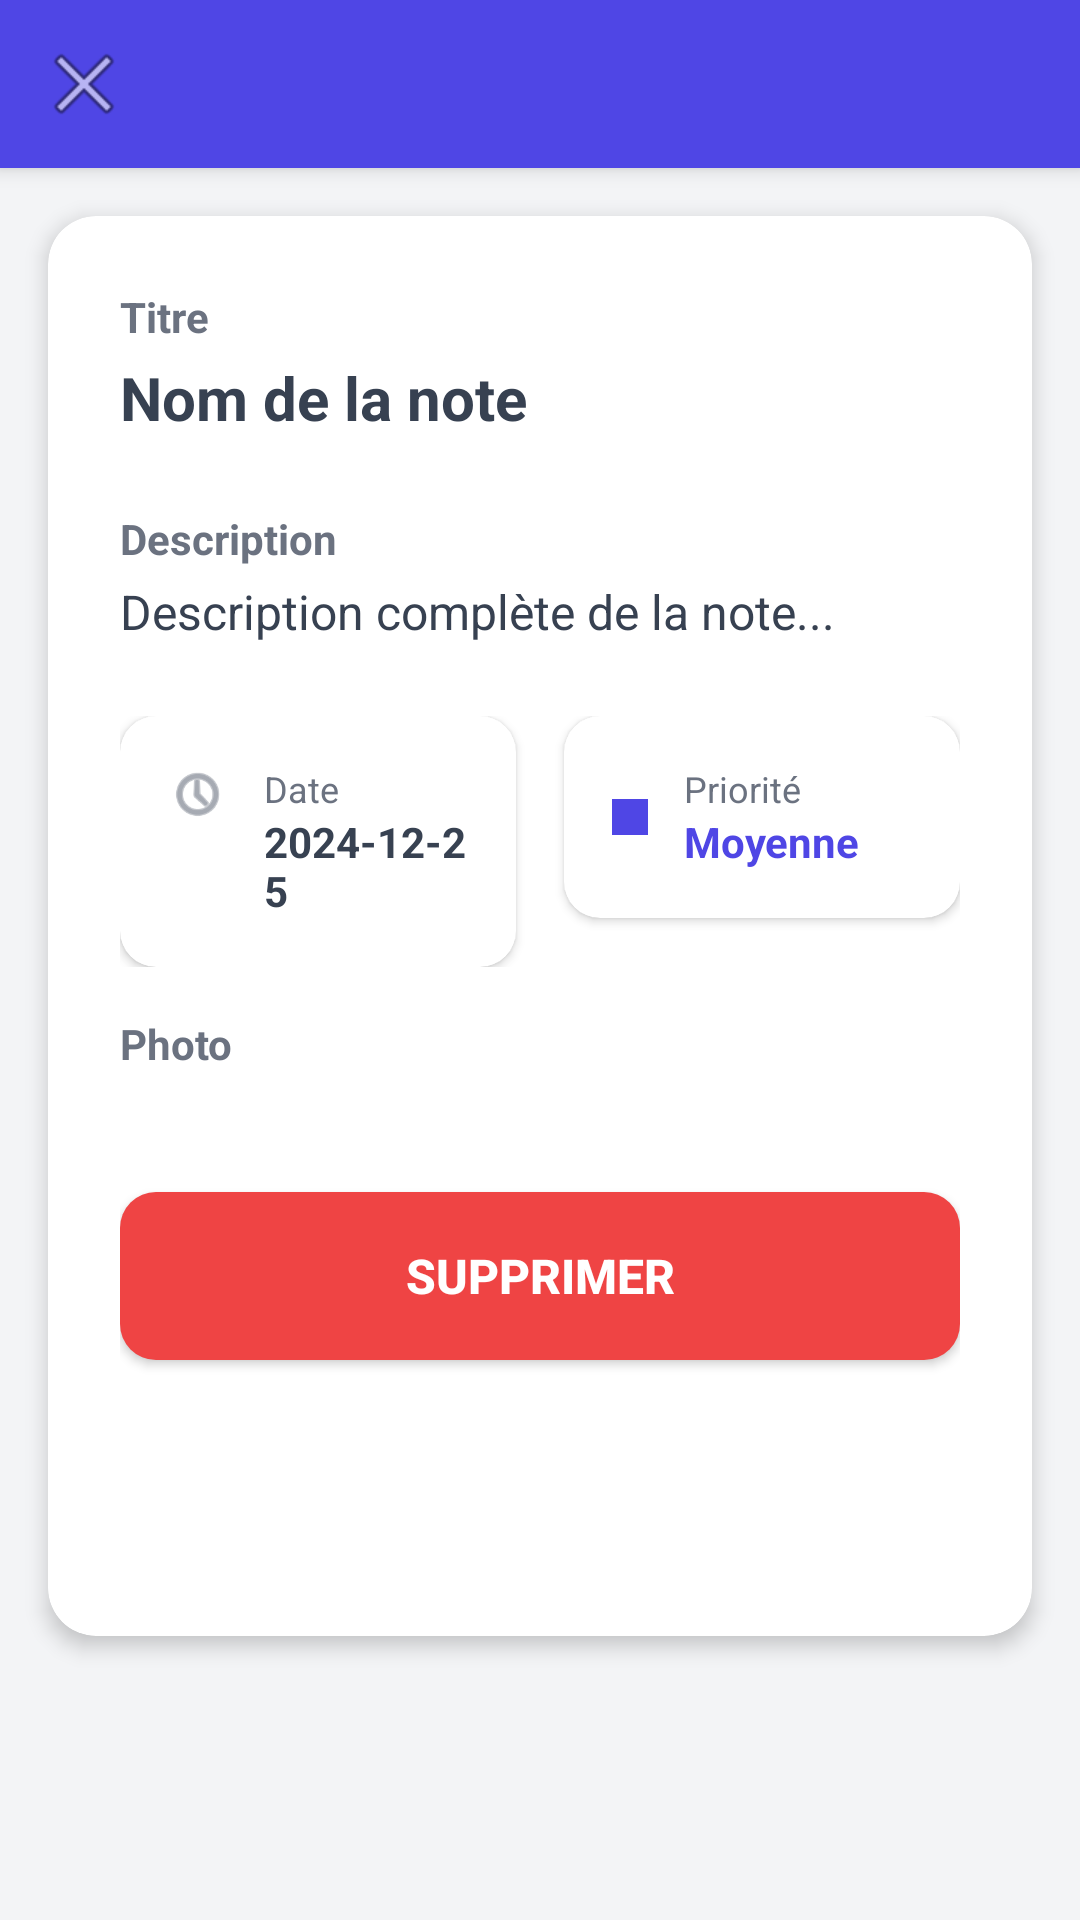

Point at icon controls on the screen. Image size 1080 × 1920, points as [x,y].
recent history: [197,794]
